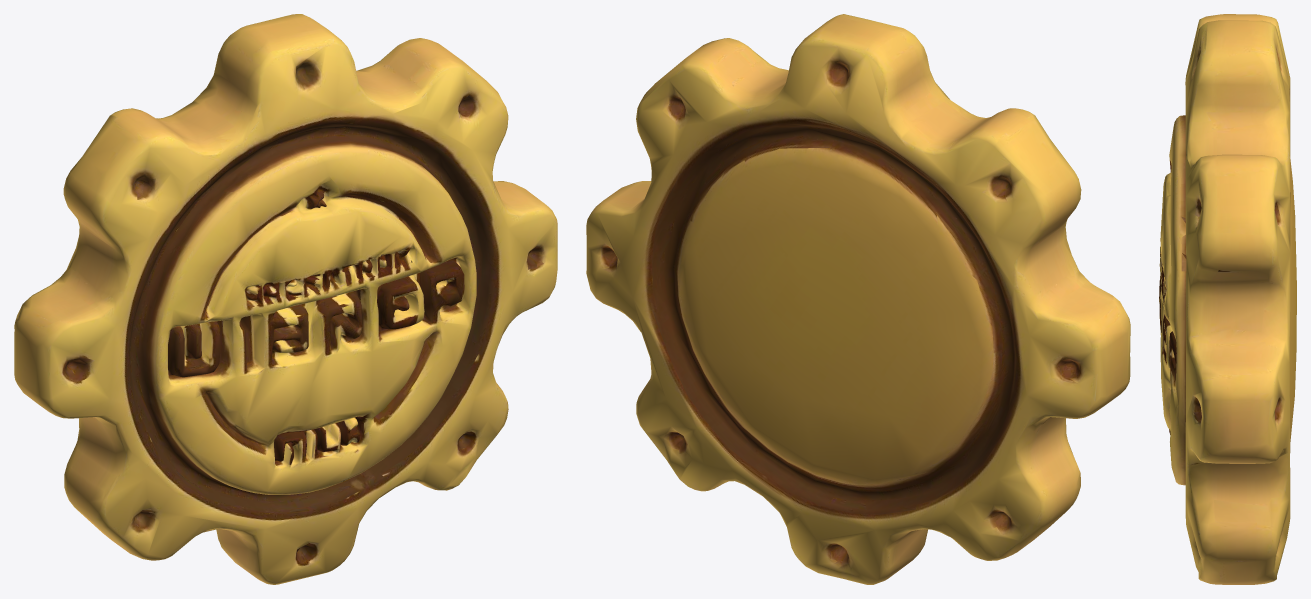
Rendered from coin.glb.
The picture shows the model from 3 angles, left to right: view 1: azimuth 30°, elevation 25°; view 2: azimuth 150°, elevation 25°; view 3: azimuth 270°, elevation 25°; orthographic projection.
Parts seen in each view (by area): view 1: coin; view 2: coin; view 3: coin.
Part boxes in pixels (box(x1,y1,x2,y2)): coin: box(14, 14, 557, 584); coin: box(586, 14, 1130, 584); coin: box(1159, 14, 1296, 584).
Size of the model in its own units: 0.9983 by 0.9932 by 0.2323.
1 material, 1 textured.
